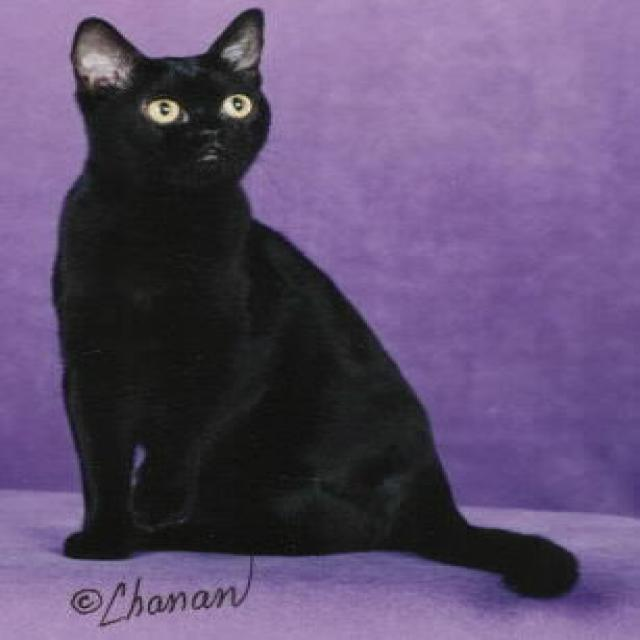Bombay: (50, 1, 292, 208)
